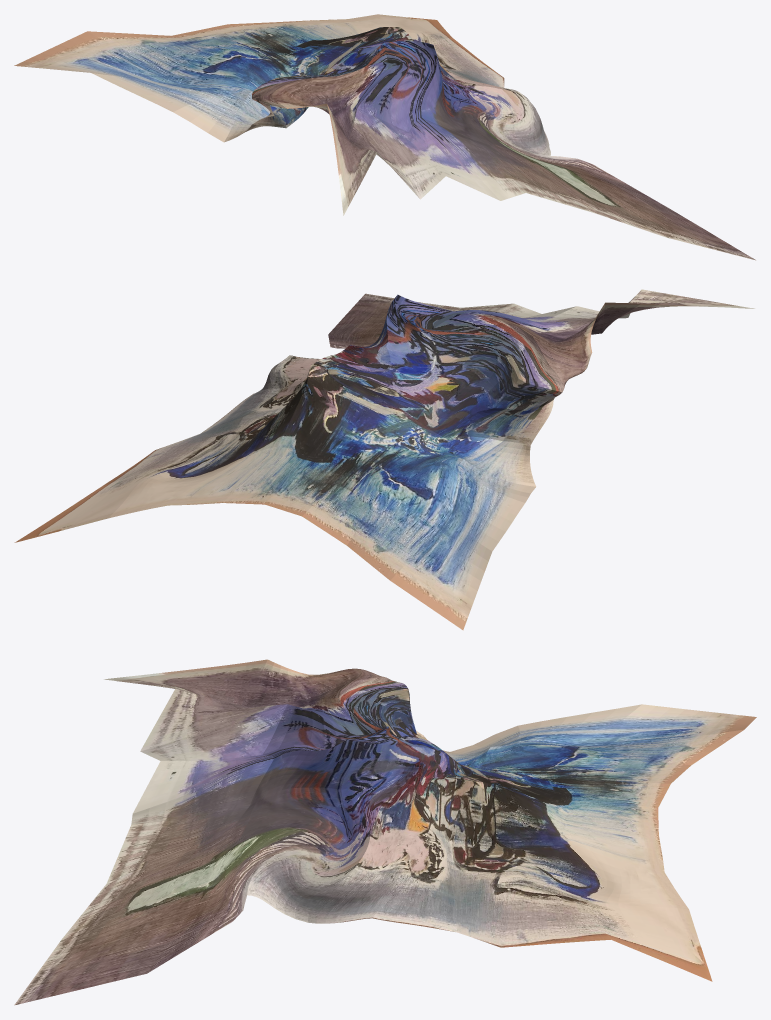
Rendered from aks.glb.
3 renders of one model, top to bottom at view 1: azimuth 30°, elevation 25°; view 2: azimuth 150°, elevation 25°; view 3: azimuth 270°, elevation 25°, orthographic. The views are drawn at different scales.
Visible parts, largest first — view 1: 20260905_161427; view 2: 20260905_161427; view 3: 20260905_161427.
Part boxes in pixels (x1=…): 20260905_161427: x1=14, y1=14, x2=755, y2=260; 20260905_161427: x1=14, y1=289, x2=754, y2=630; 20260905_161427: x1=14, y1=659, x2=756, y2=1005.
Bounding box in the file's own units: 0.4073 × 0.1433 × 0.5628.
Materials: 1 (1 with a texture image).
